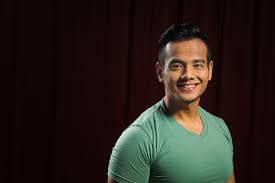asian_male: (153, 53, 213, 103)
